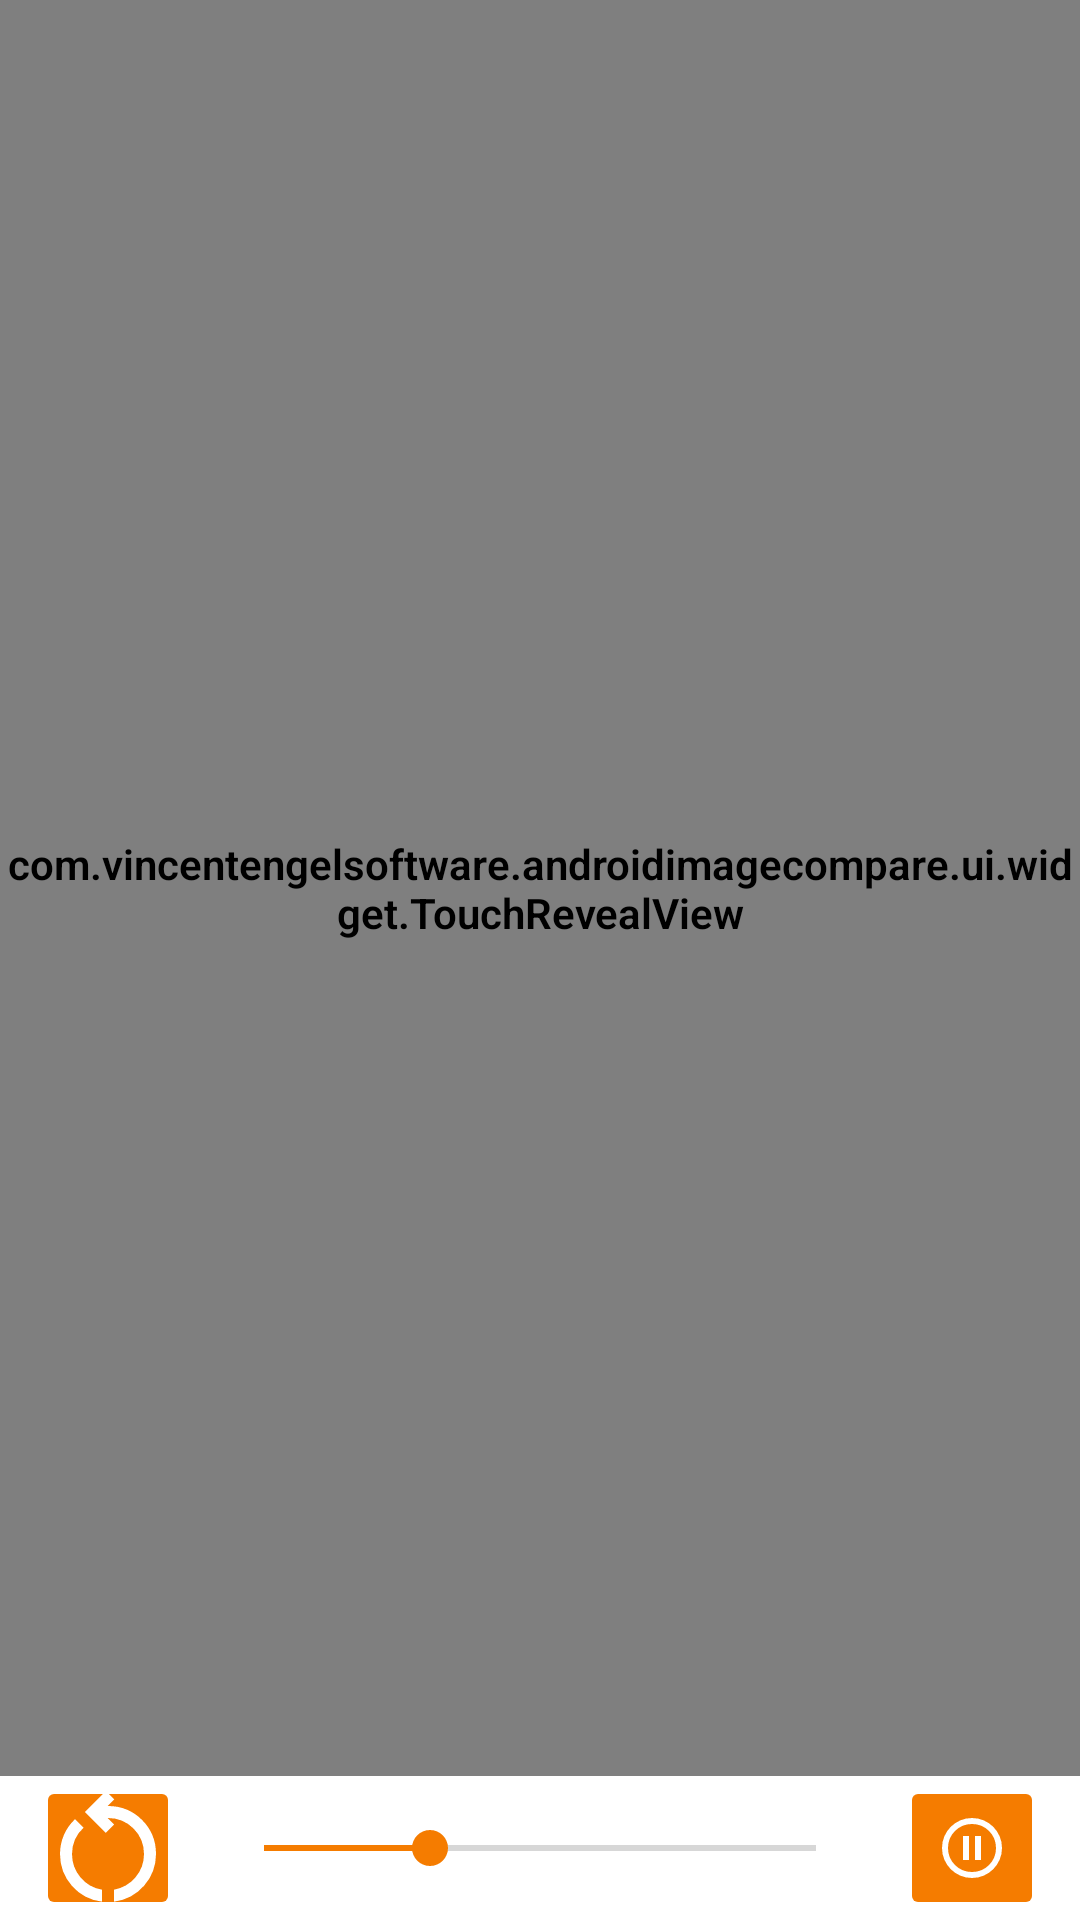

Point at icon controls on the screen. Image size 1080px×1920px, points as (x,y).
Reset: (108,1848)
